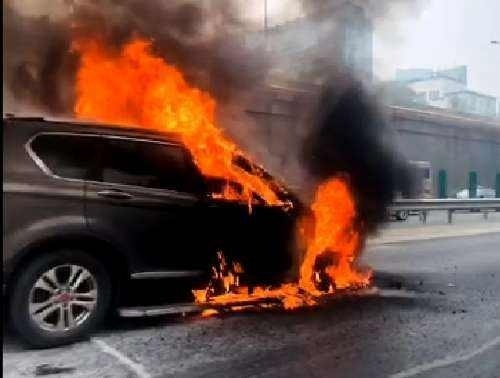fire: (59, 28, 380, 317)
